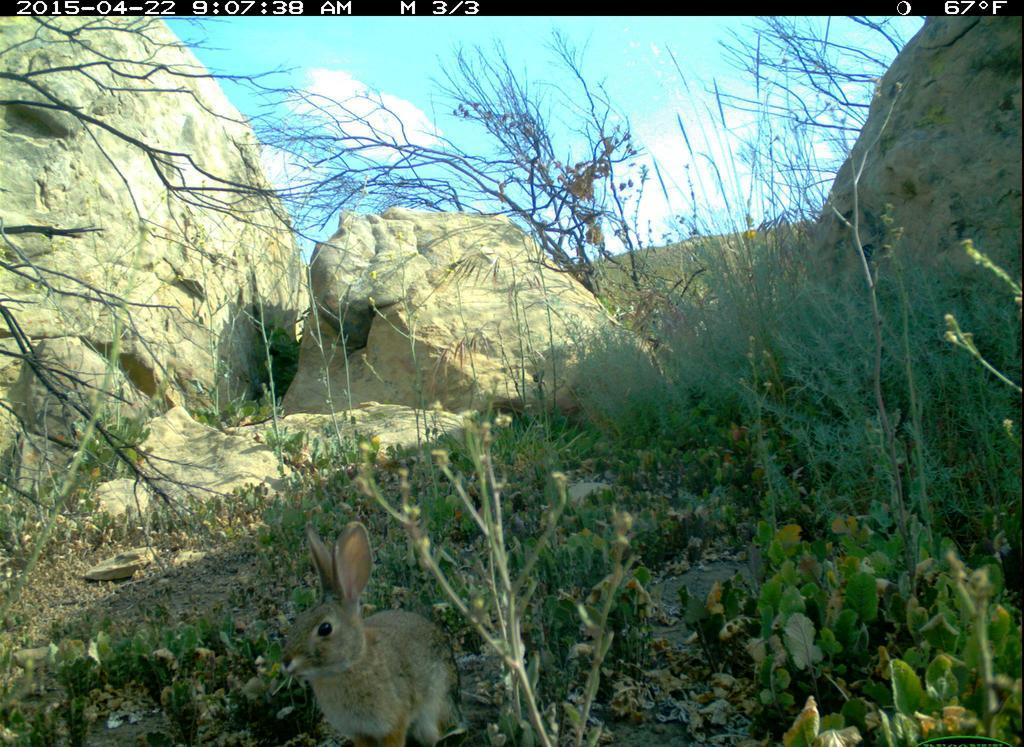rabbit: (276, 521, 469, 747)
